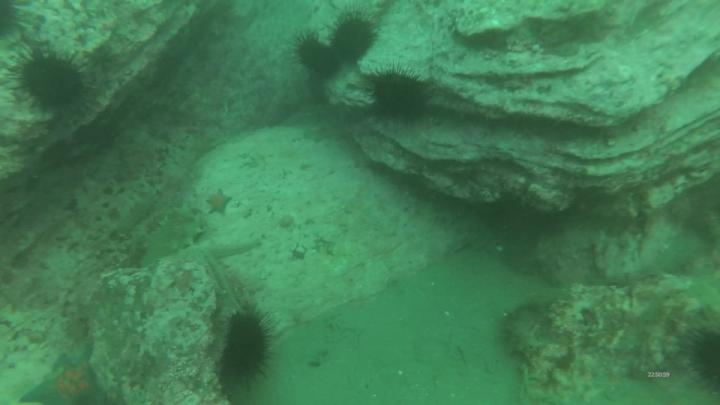echinus: (10, 41, 97, 116), (222, 302, 280, 391), (369, 62, 434, 125), (683, 321, 720, 395), (329, 10, 378, 64), (291, 30, 341, 78), (1, 1, 21, 45)
starfish: (20, 360, 98, 405), (203, 186, 236, 218)
